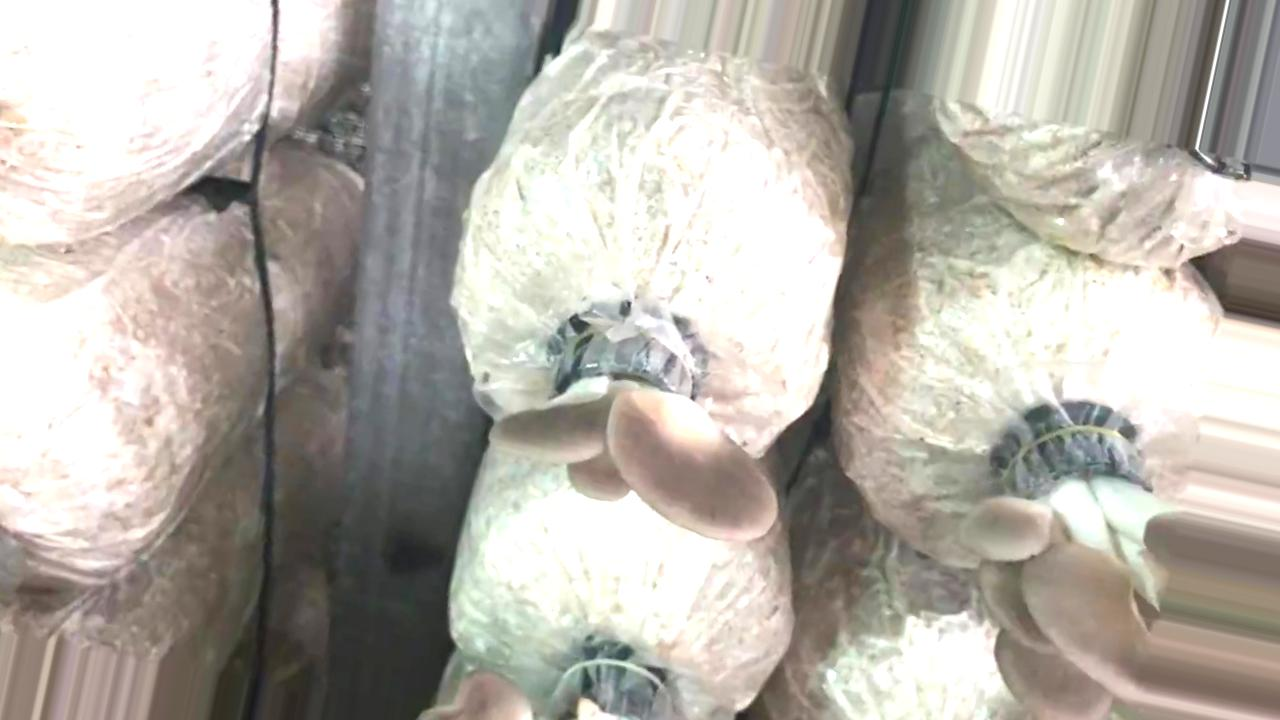nam: (952, 398, 1280, 720), (486, 312, 784, 543)
